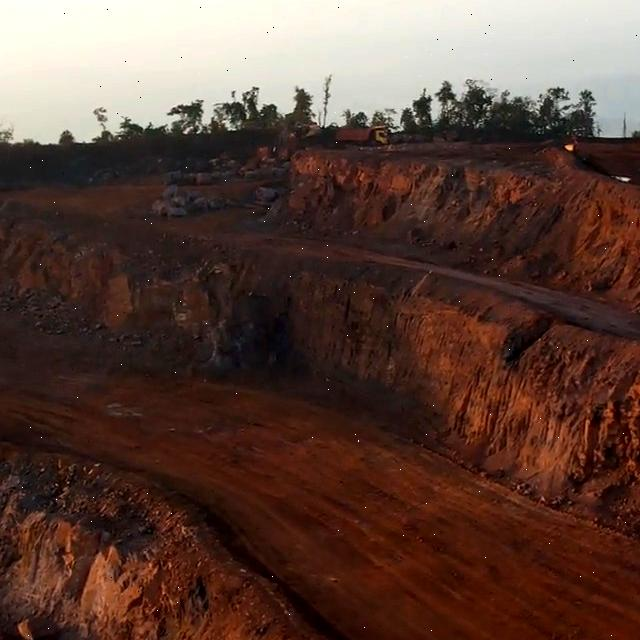Dumper truck: (334, 127, 391, 147)
